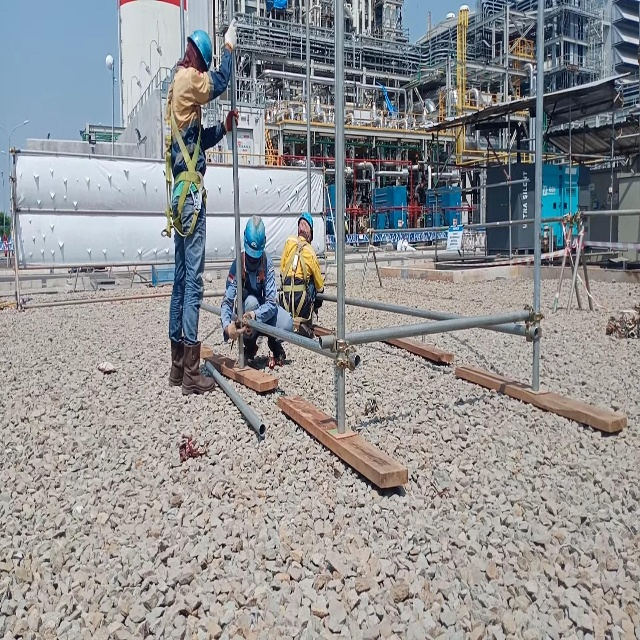Arnes_seguridad: (163, 68, 209, 241), (278, 233, 312, 324)
